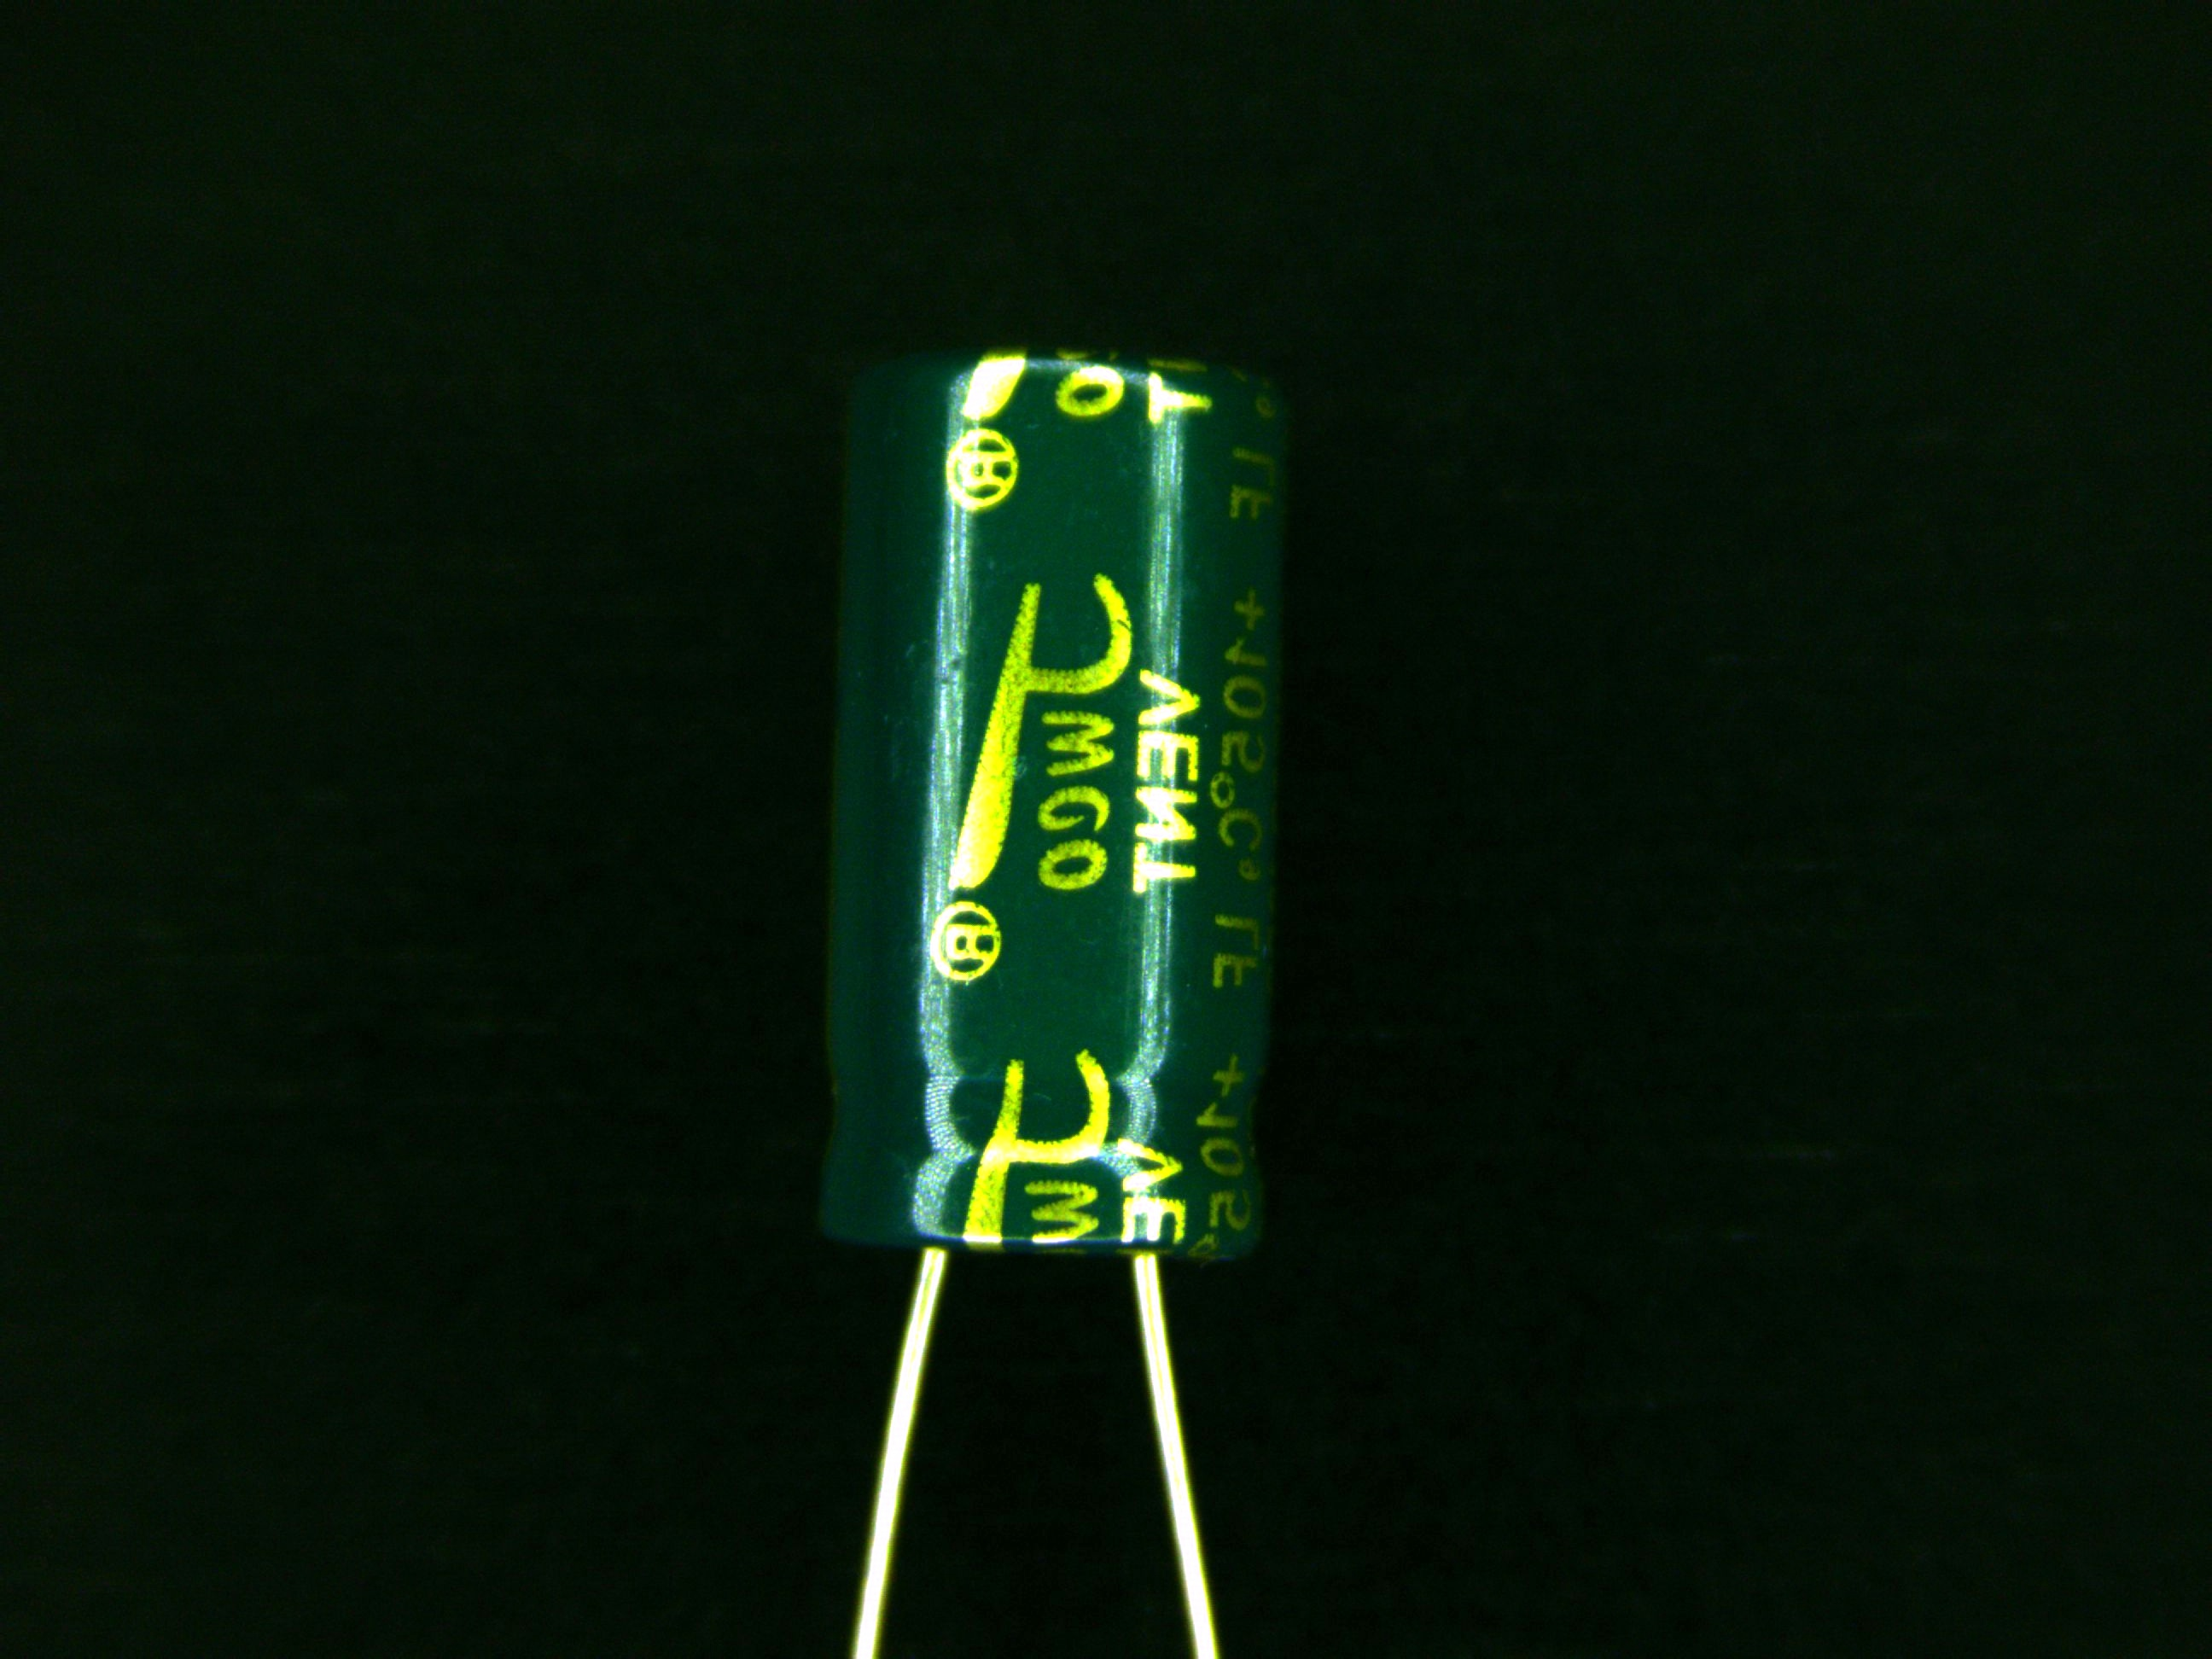c1: (808, 343, 1296, 1370)
